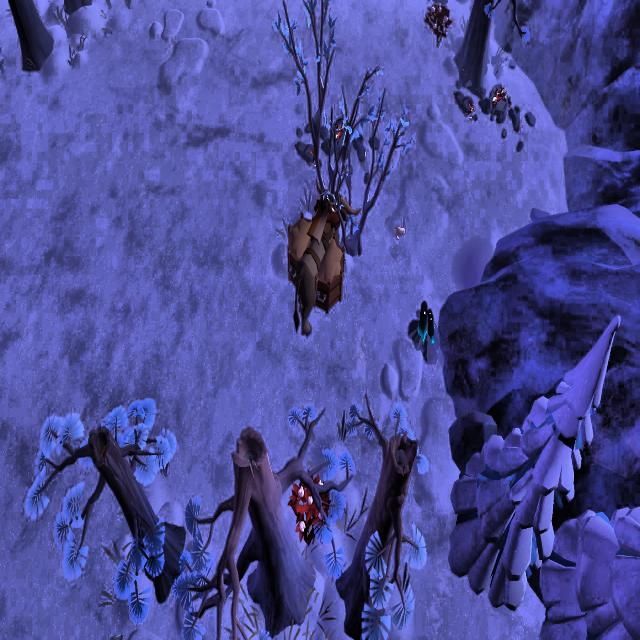fiber_t5: (288, 471, 335, 542), (421, 1, 453, 44)
ore_t4: (414, 297, 435, 347)
